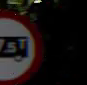Heavy Vehicles: (1, 5, 42, 84)
